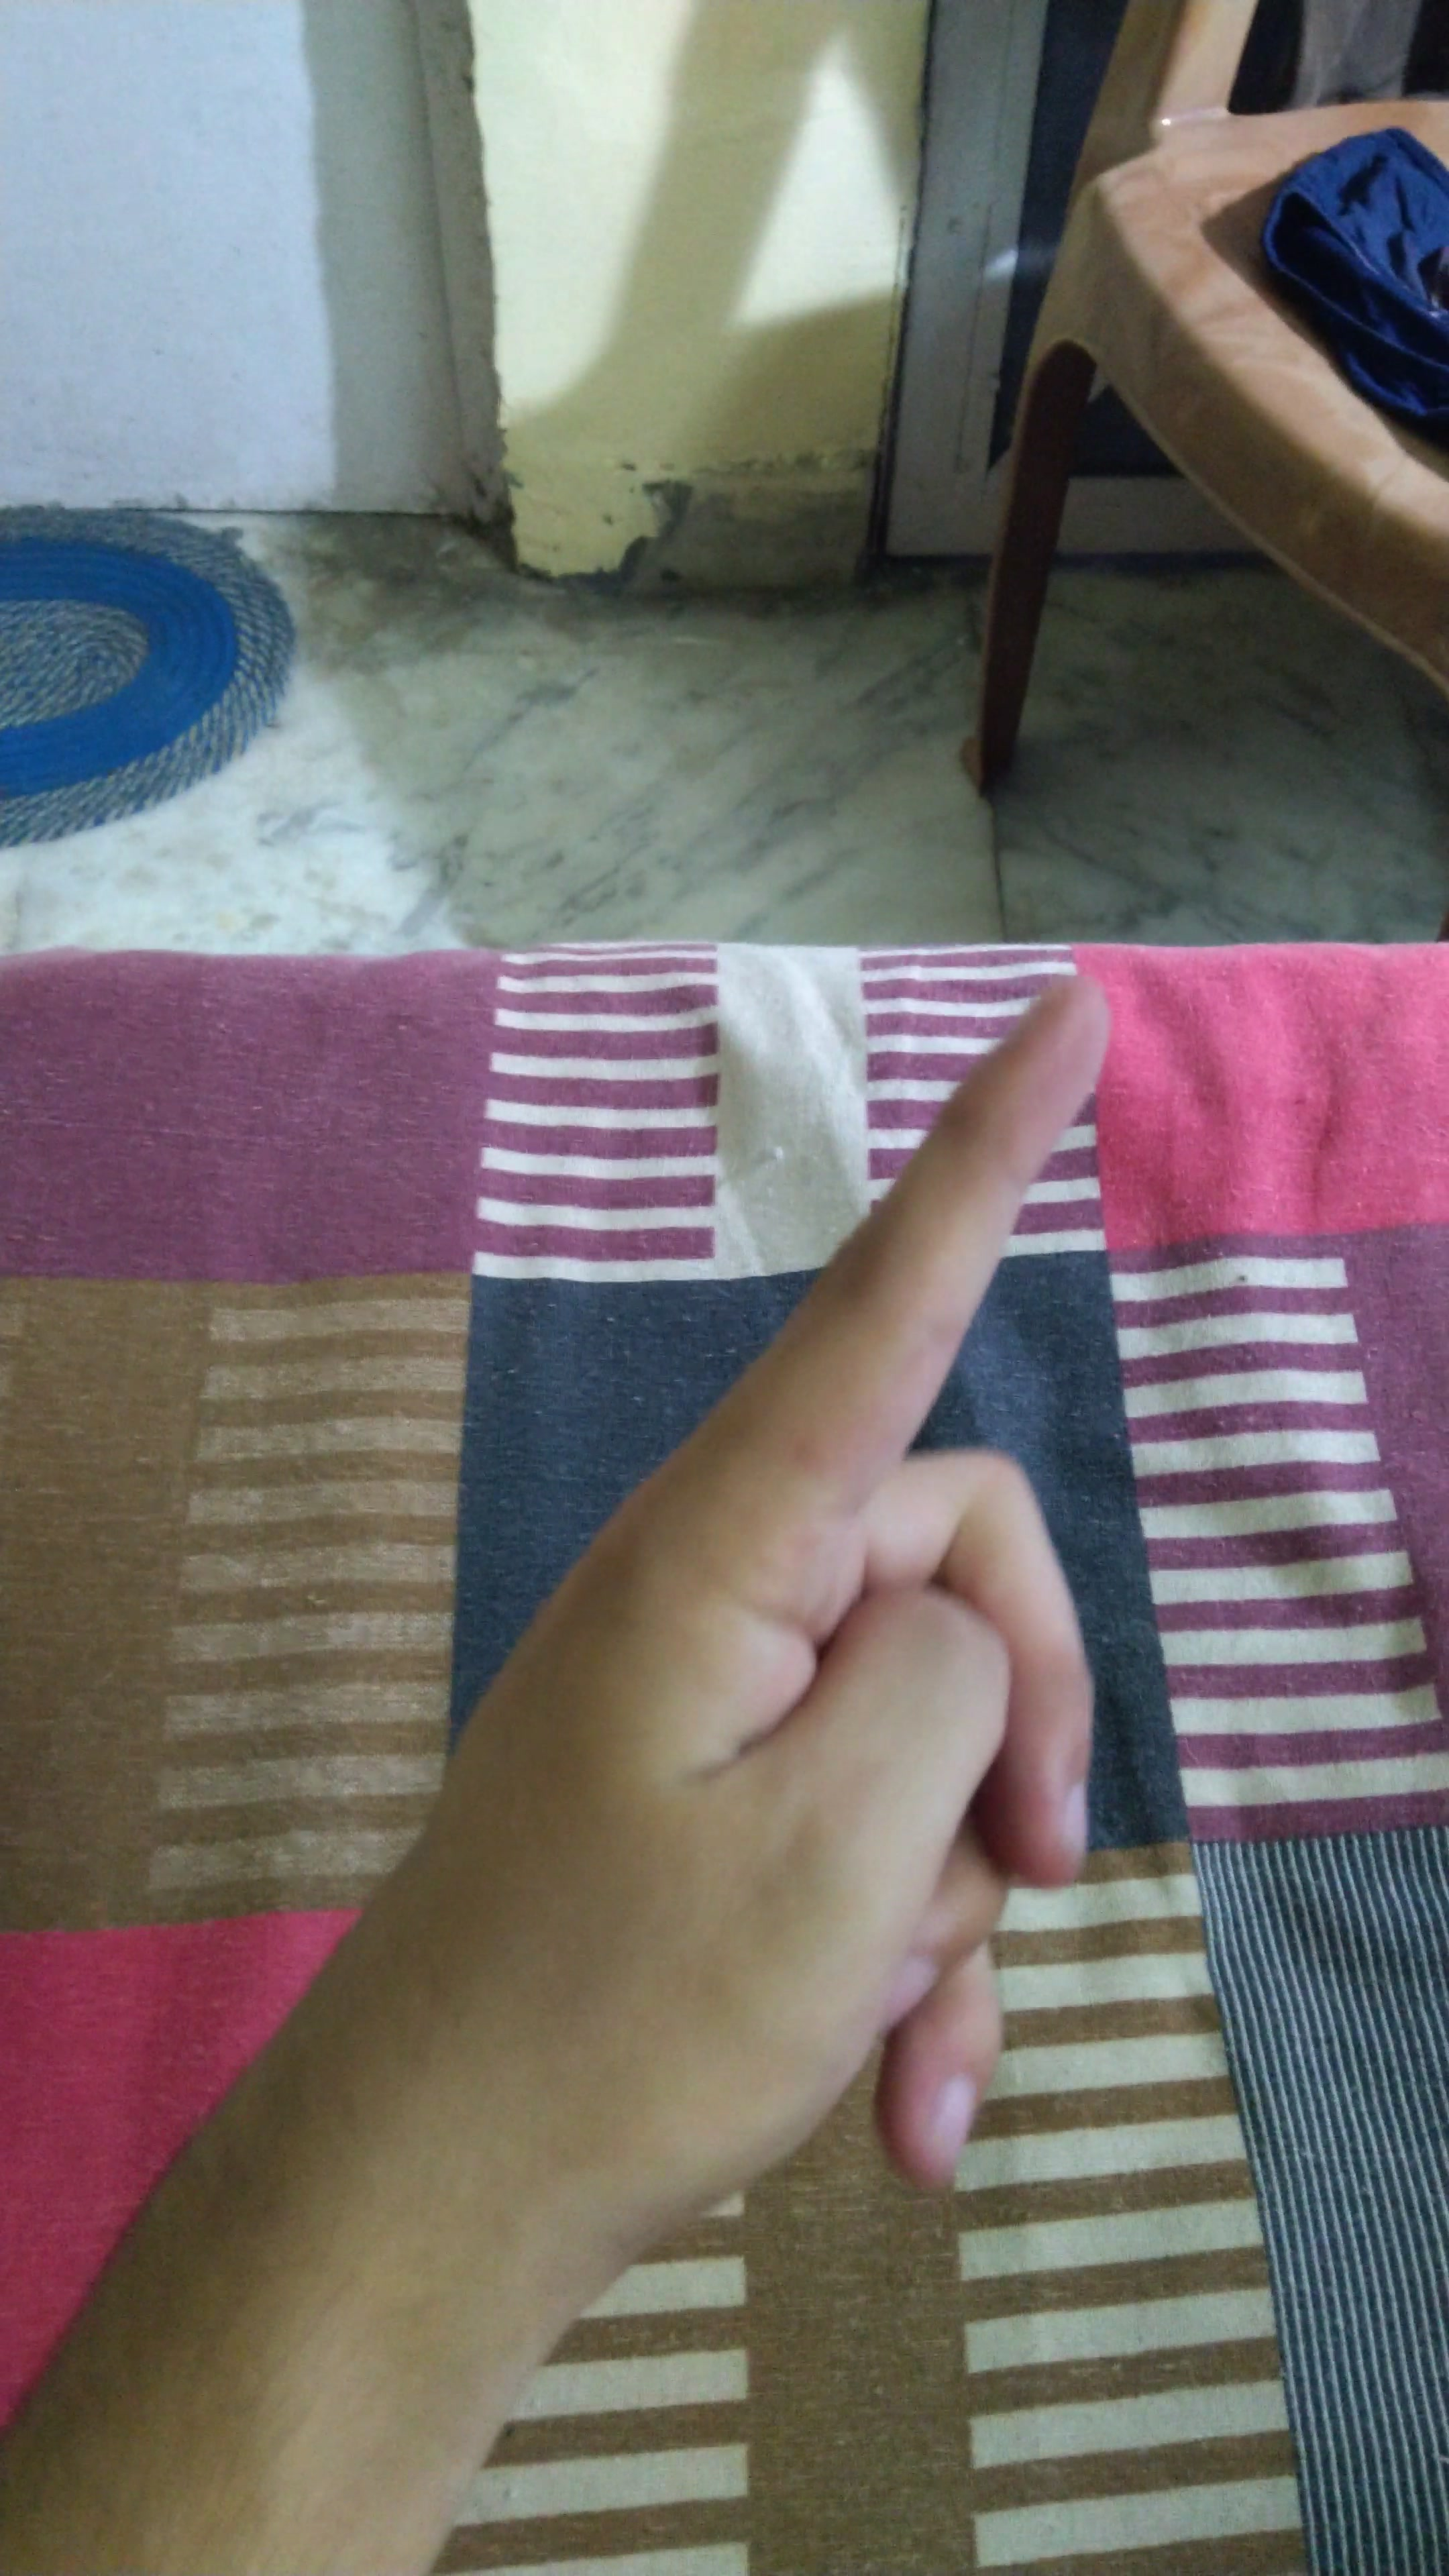hand: (382, 957, 1240, 2238)
